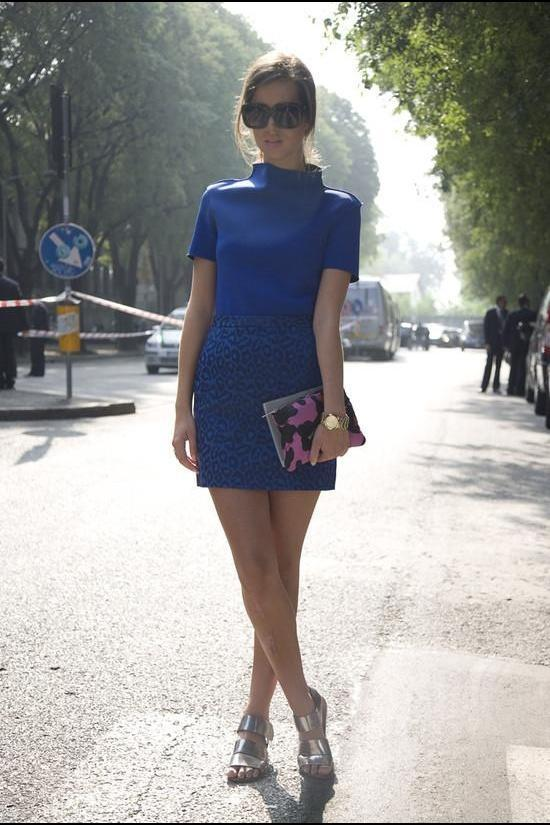dress: (186, 162, 360, 491)
